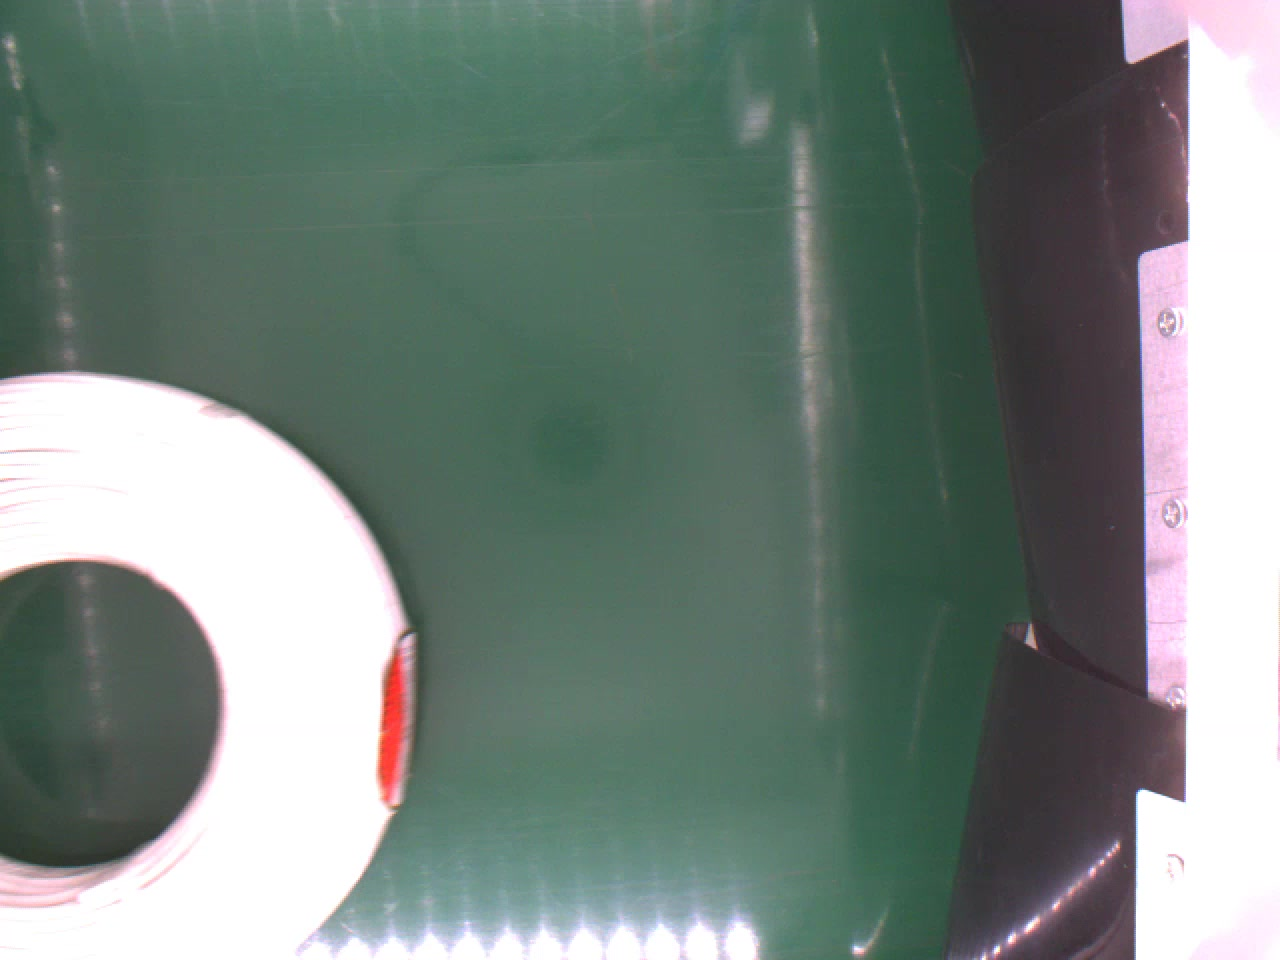white: (0, 366, 424, 960)
